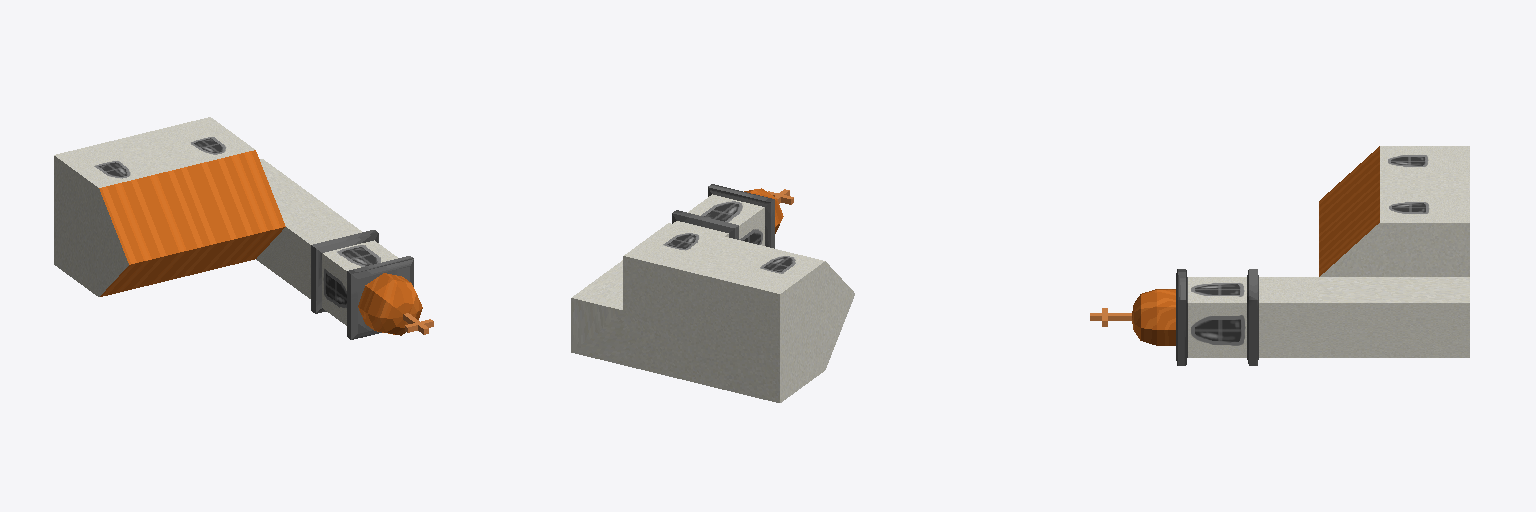
3 views of the same model, side by side, from view 1: azimuth 30°, elevation 25°; view 2: azimuth 150°, elevation 25°; view 3: azimuth 270°, elevation 25° (orthographic).
Parts seen in each view (by area): view 1: Plane, Circle; view 2: Plane; view 3: Plane, Circle.
Boxes of the visible parts, x1,y1,x2,y2 form: Plane: [54, 117, 413, 339]; Circle: [358, 273, 422, 335]; Plane: [571, 184, 854, 402]; Plane: [1176, 146, 1469, 365]; Circle: [1132, 289, 1175, 345].
Size of the model in its own units: 8.21 by 4.21 by 12.6.
Materials: 1 (1 with a texture image).